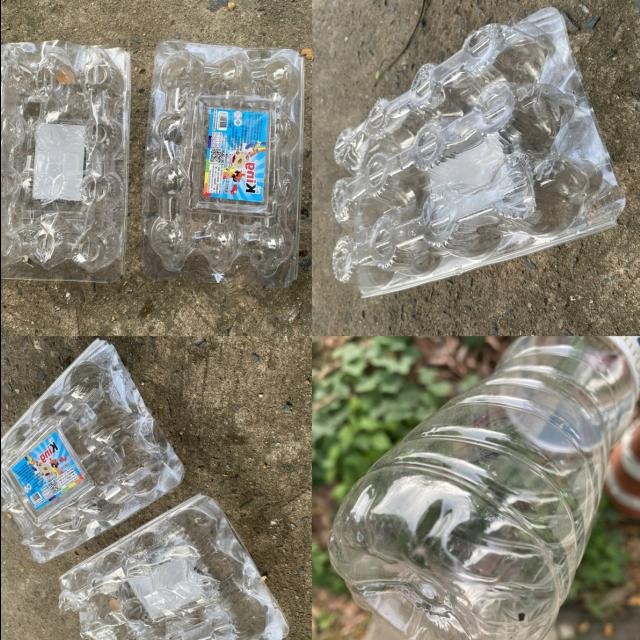plastik: (327, 336, 640, 640), (330, 5, 624, 297), (0, 339, 183, 563), (142, 39, 303, 286), (59, 494, 288, 640), (0, 41, 129, 282)
